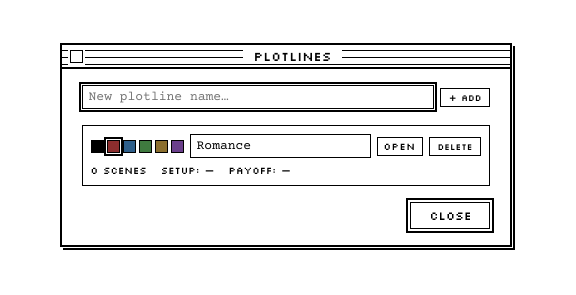
PlotlinesDialog › refuses a name another plotline already has, and says why
This screenshot has width=576, height=295.
Type " romance " into the field labelled "New plotline name" at (258, 97), box [82,85,434,109]
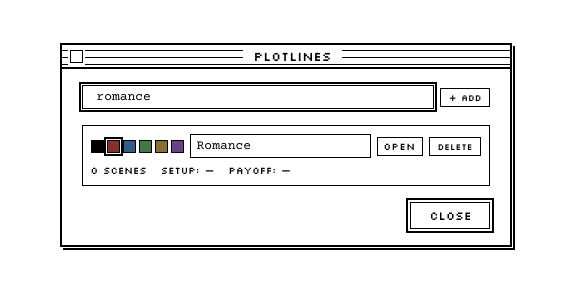
Press Enter in the field named "New plotline name", box [82,85,434,109]
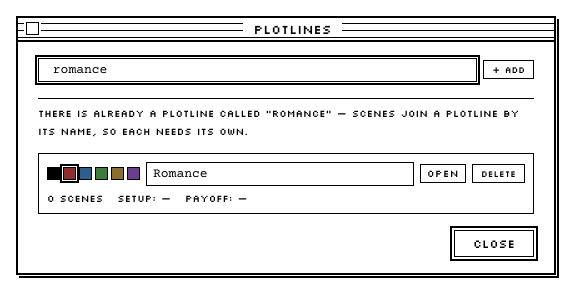
Expected: the message shows "already a plotline called “Romance”", [38,106,519,138]
